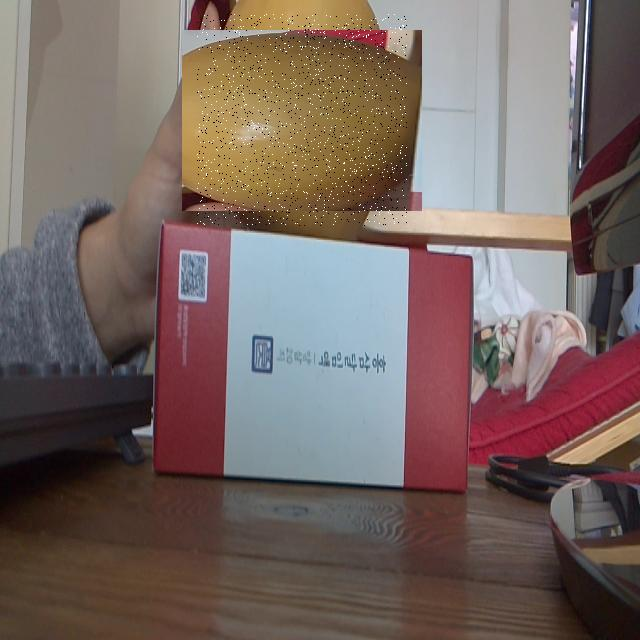pear: (197, 14, 407, 226)
